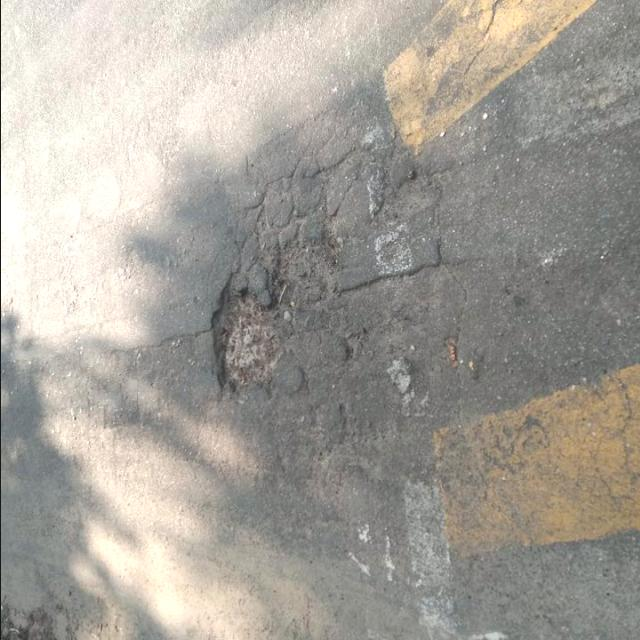pothole: (200, 189, 371, 412)
